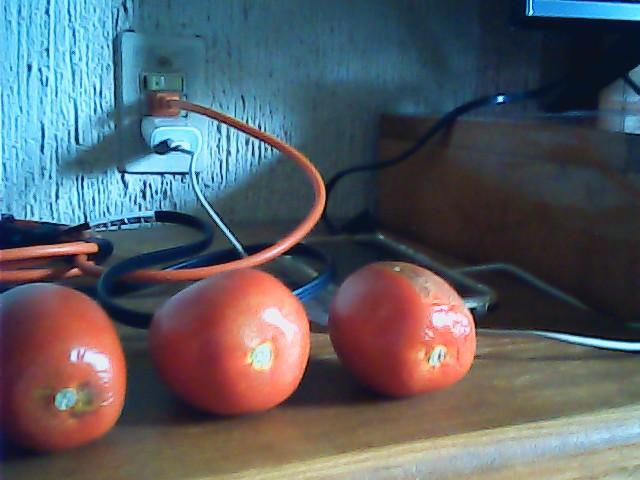defectuoso: (0, 282, 132, 450), (328, 259, 476, 397)
maduro: (152, 266, 310, 409)
